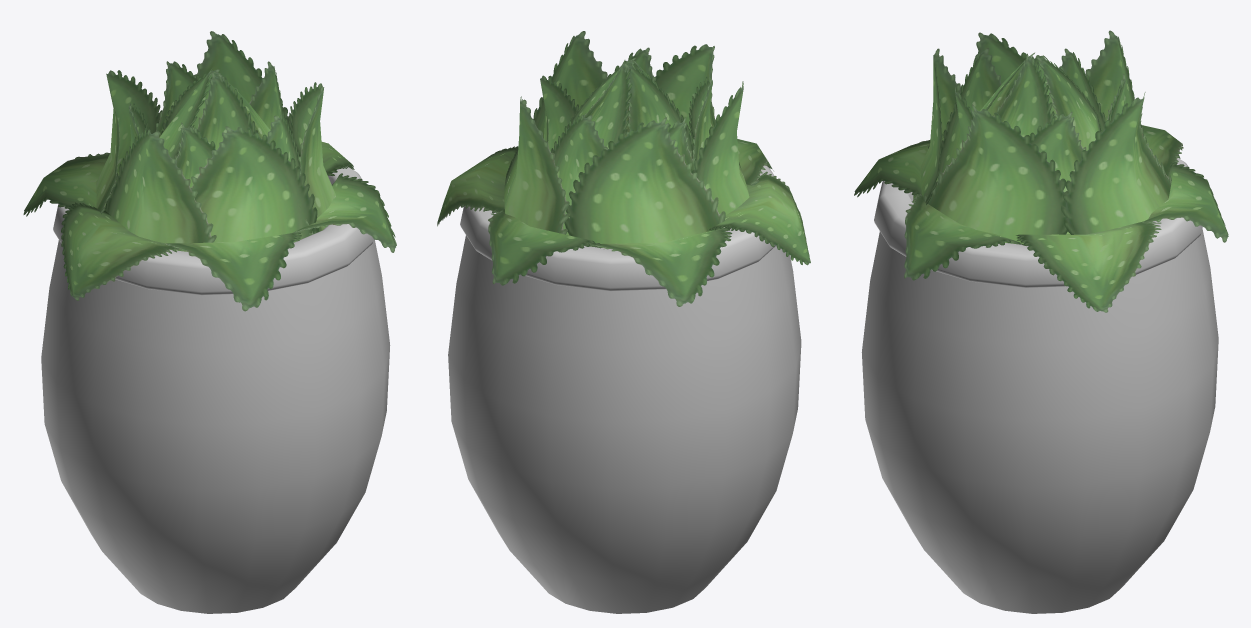
The model's file is SM_Potted_Cactus_A.fbx.
3 views of the same model, side by side, from view 1: azimuth 30°, elevation 25°; view 2: azimuth 150°, elevation 25°; view 3: azimuth 270°, elevation 25° (orthographic). The views are drawn at different scales.
Parts seen in each view (by area): view 1: SM_Potted_Cactus_A_LOD0; view 2: SM_Potted_Cactus_A_LOD0; view 3: SM_Potted_Cactus_A_LOD0.
Boxes of the visible parts, <box> form: SM_Potted_Cactus_A_LOD0: <box>23,31,396,613</box>; SM_Potted_Cactus_A_LOD0: <box>437,31,810,613</box>; SM_Potted_Cactus_A_LOD0: <box>854,30,1228,613</box>.
Bounding box in the file's own units: 67.68 × 69.82 × 105.
2 materials, 1 textured.
